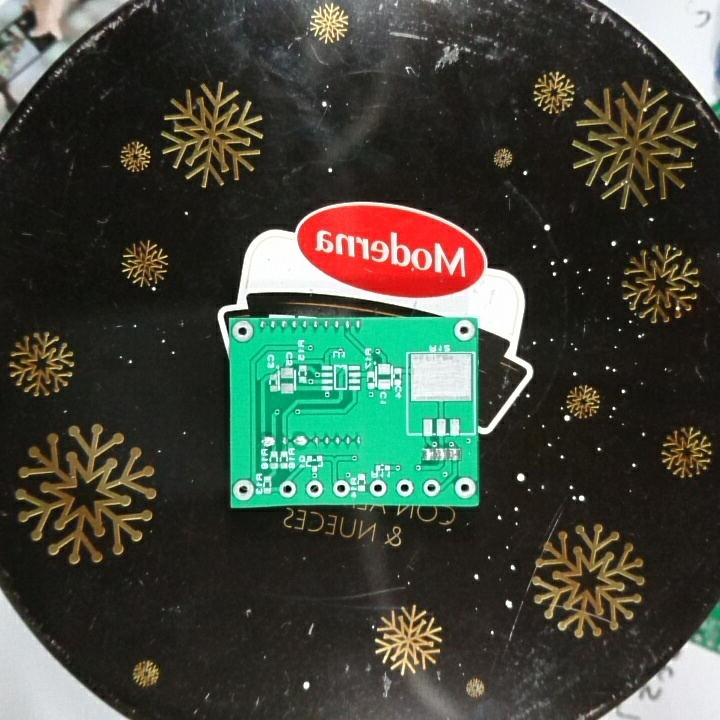F: (231, 318, 257, 343), (451, 318, 477, 343), (231, 478, 257, 502), (453, 475, 477, 500), (304, 477, 325, 502), (367, 478, 389, 499), (277, 479, 298, 501), (421, 477, 442, 497), (396, 478, 417, 498), (331, 478, 351, 498)
P: (291, 432, 308, 449), (259, 434, 275, 451)
